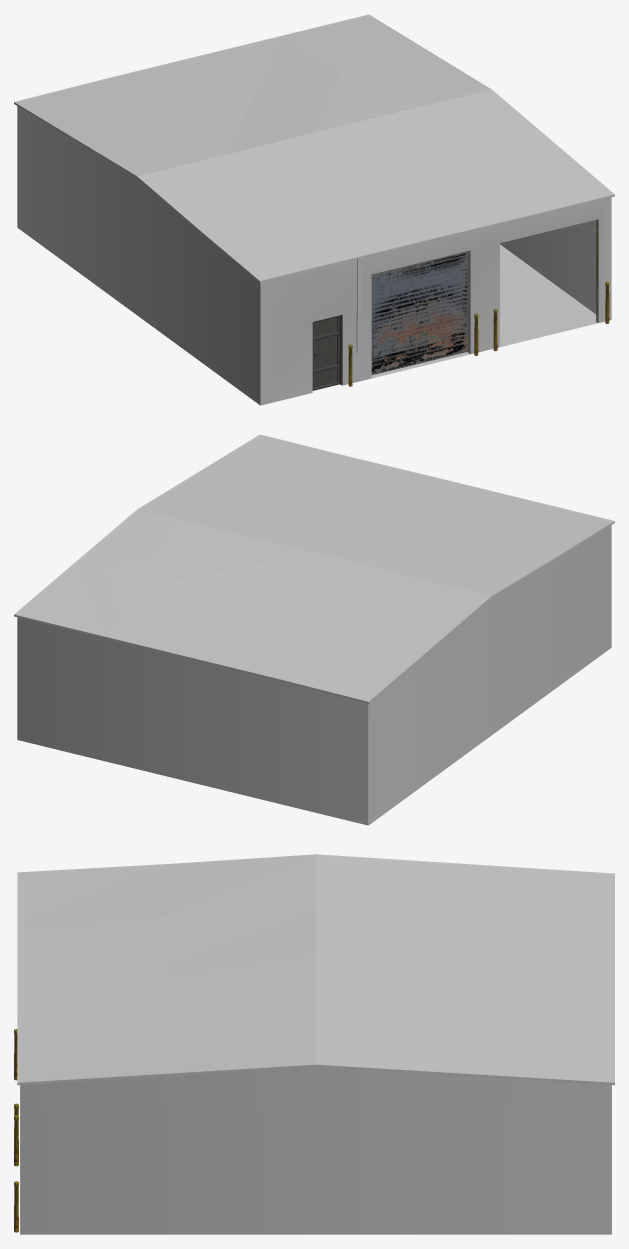
3 views of the same model, one above another, from view 1: azimuth 30°, elevation 25°; view 2: azimuth 150°, elevation 25°; view 3: azimuth 270°, elevation 25° (orthographic). The views are drawn at different scales.
Parts seen in each view (by area): view 1: warehouseRoof, buildWarehouse, wareHouse-Gate, warehouseFloor, internalArea, wareHousedoor; view 2: warehouseRoof, buildWarehouse; view 3: warehouseRoof, buildWarehouse.
Part boxes in pixels (<box>): warehouseRoof: <box>14,14,614,282</box>; buildWarehouse: <box>17,106,611,405</box>; wareHouse-Gate: <box>371,251,467,374</box>; warehouseFloor: <box>371,244,597,378</box>; internalArea: <box>500,220,596,314</box>; wareHousedoor: <box>312,315,341,390</box>; warehouseRoof: <box>14,434,614,703</box>; buildWarehouse: <box>17,525,611,825</box>; warehouseRoof: <box>17,854,614,1085</box>; buildWarehouse: <box>20,1067,611,1234</box>.
Bounding box in the file's own units: 10.1 × 3.85 × 12.19.
